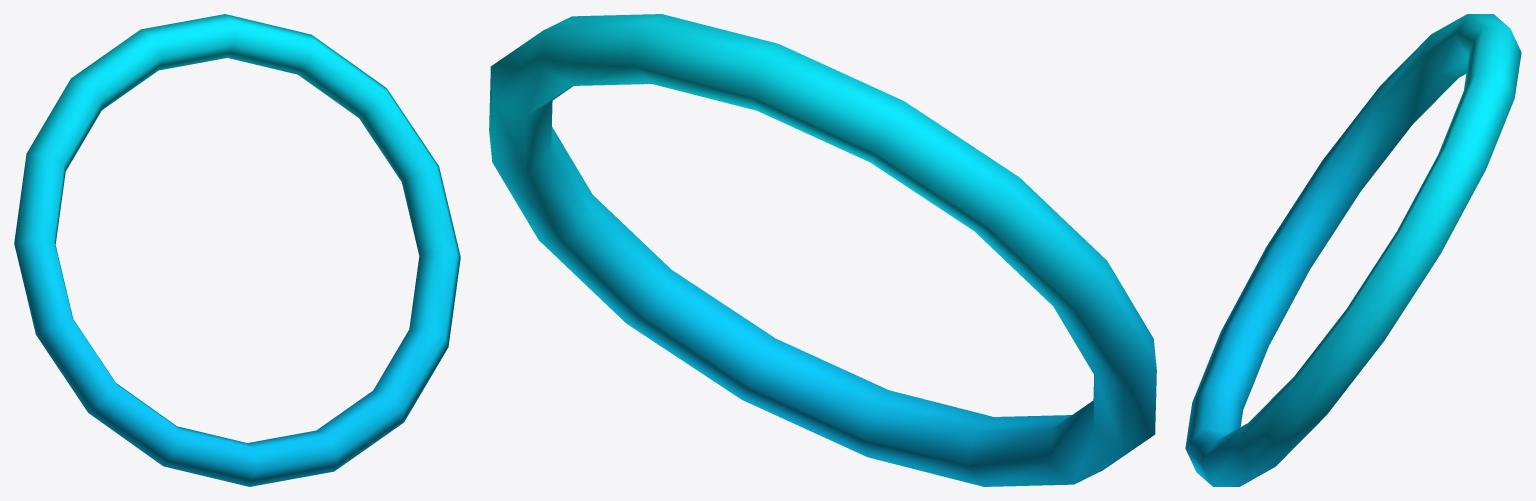
The model's file is MG1_Magazine_Torus_02.fbx.
The picture shows the model from 3 angles, left to right: view 1: azimuth 30°, elevation 25°; view 2: azimuth 150°, elevation 25°; view 3: azimuth 270°, elevation 25°; orthographic projection. The views are drawn at different scales.
Parts seen in each view (by area): view 1: MG1_Magazine_Torus_02; view 2: MG1_Magazine_Torus_02; view 3: MG1_Magazine_Torus_02.
Boxes of the visible parts, x1,y1,x2,y2 form: MG1_Magazine_Torus_02: [14, 14, 460, 486]; MG1_Magazine_Torus_02: [489, 14, 1156, 486]; MG1_Magazine_Torus_02: [1185, 14, 1521, 486].
Size of the model in its own units: 6.91 by 5.72 by 4.21.
